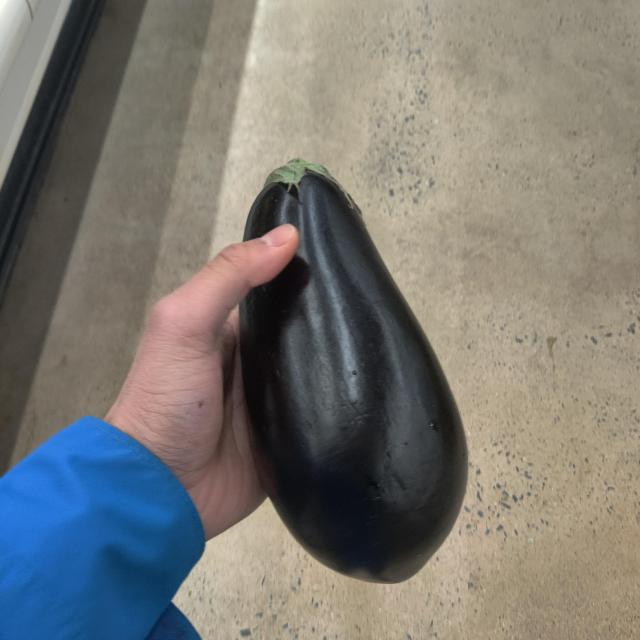Eggplant: (242, 158, 470, 583)
